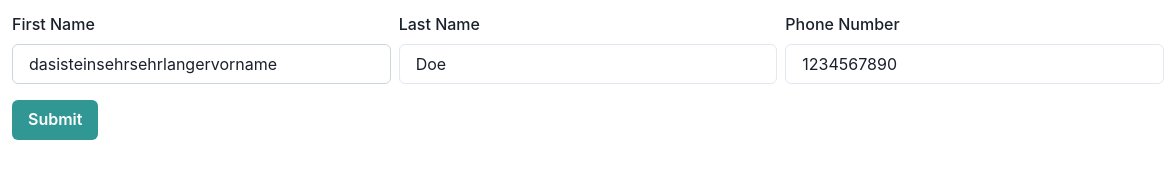
Test: ContactForm › should show maxLength error on first submitting, when firstName is too long
Expected: the text "first name must be 15 characters or less" is not shown
Click the button "Submit": (55, 120) [12,100,98,140]
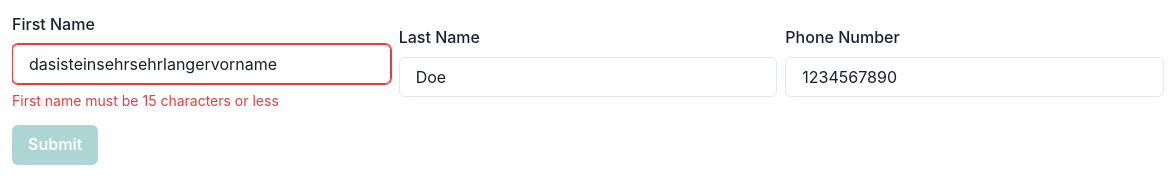
Expected: the text "First name must be 15 characters or less" is shown, [12,92,279,109]
